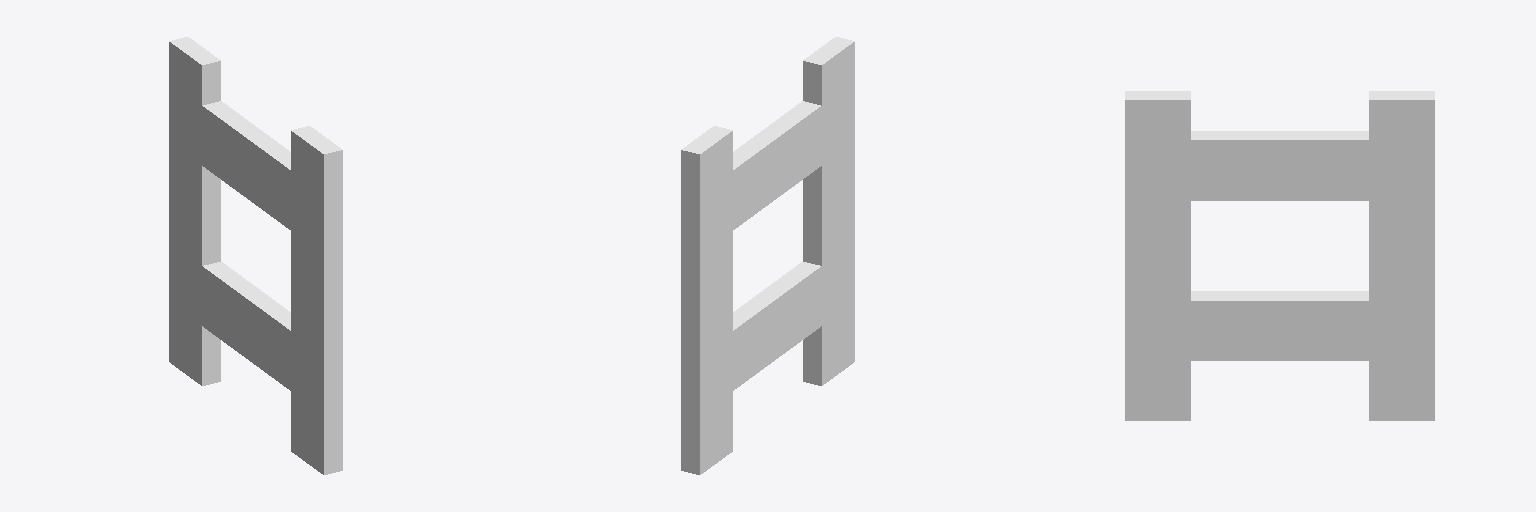
File: Stair2.obj
The picture shows the model from 3 angles: view 1: azimuth 30°, elevation 25°; view 2: azimuth 150°, elevation 25°; view 3: azimuth 270°, elevation 25°; orthographic projection.
Visible parts, largest first — view 1: object 1; view 2: object 1; view 3: object 1.
Part boxes in pixels (left/top/right/bottom): object 1: left=169, top=37, right=342, bottom=474; object 1: left=681, top=37, right=854, bottom=474; object 1: left=1125, top=91, right=1434, bottom=420.
Size of the model in its own units: 0.1 by 1.6 by 1.4.